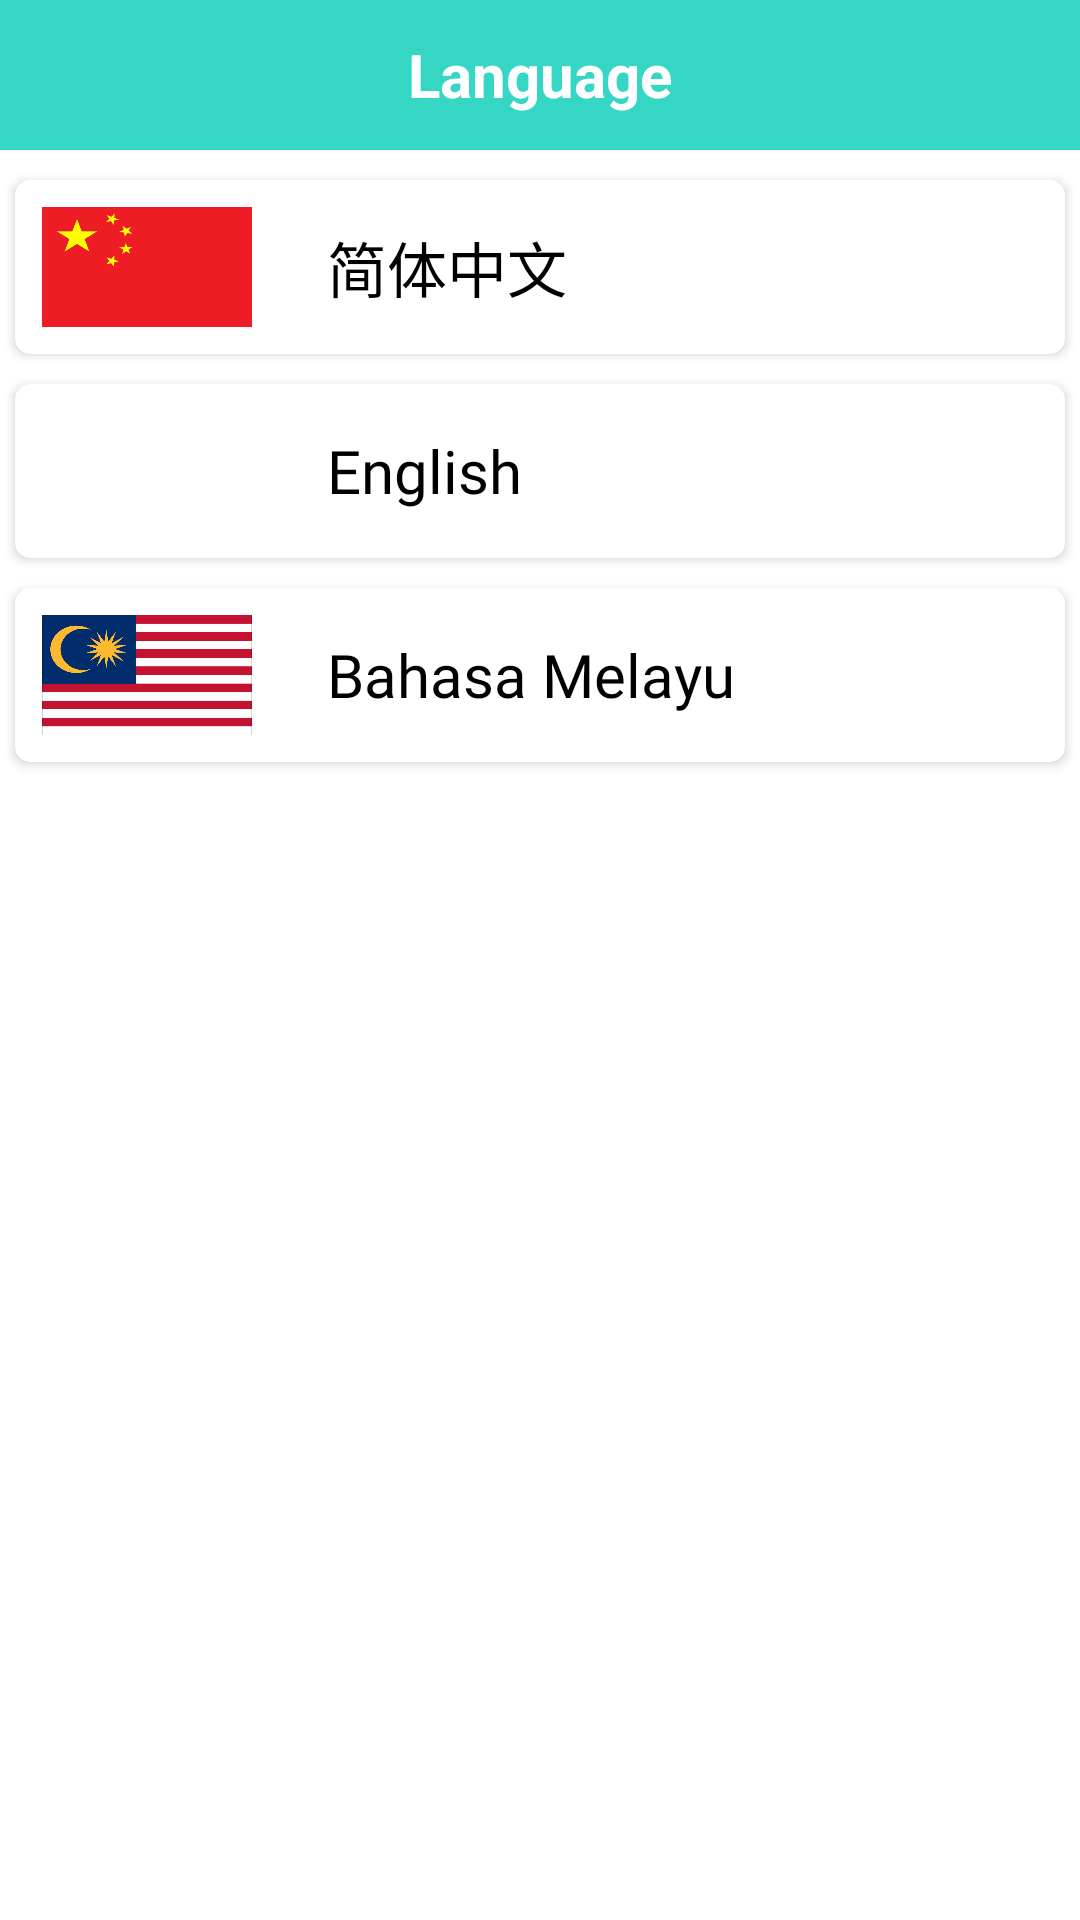

Point at icon controls on the screen. Image size 1080px×1920px, points as point (x, y).
china: point (147, 267)
malaysia: point (147, 675)
